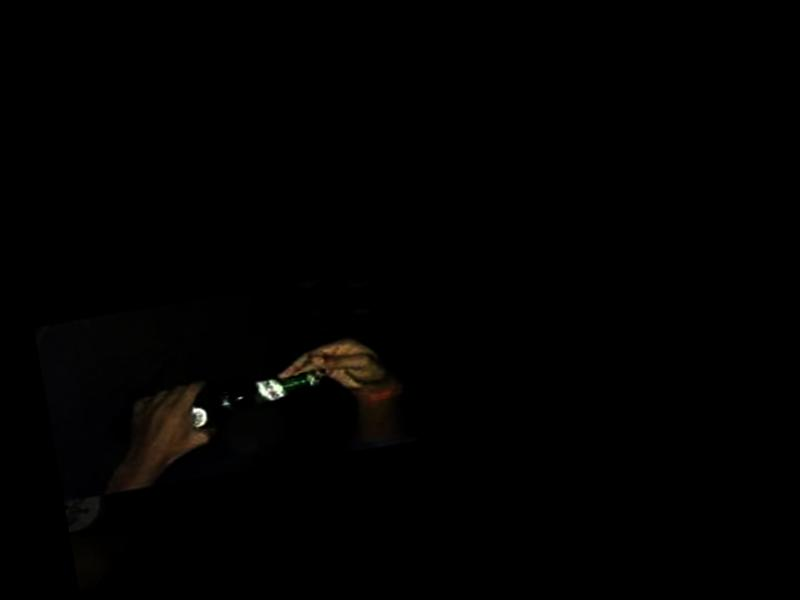Beer: (109, 365, 325, 452)
